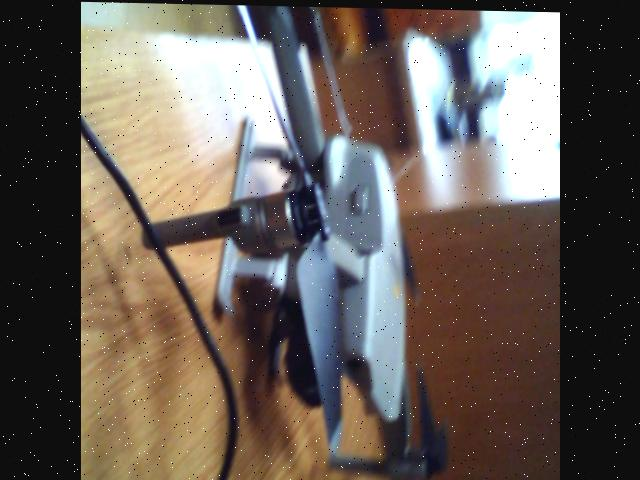drone: (151, 3, 453, 480)
